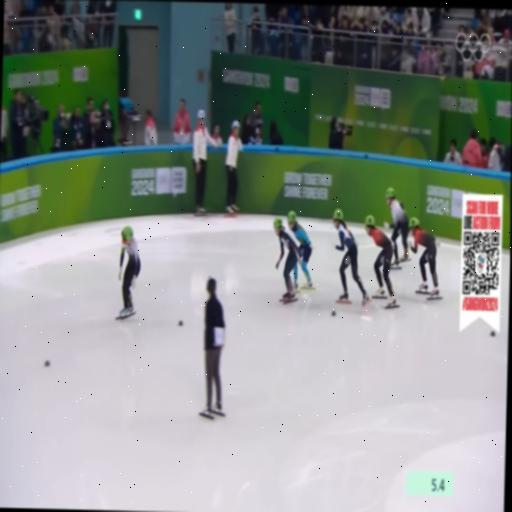Skater: (333, 209, 371, 307), (365, 216, 395, 306), (409, 218, 439, 298), (274, 217, 301, 301), (288, 211, 312, 288), (120, 226, 140, 318), (387, 188, 409, 265)
